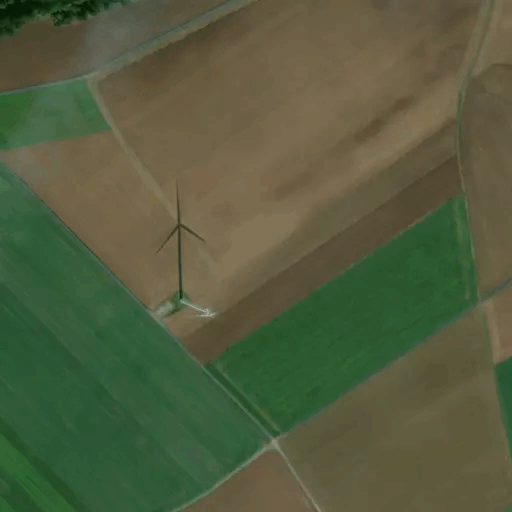wt: (154, 181, 223, 323)
